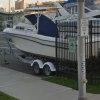Boat: (3, 11, 94, 72)
